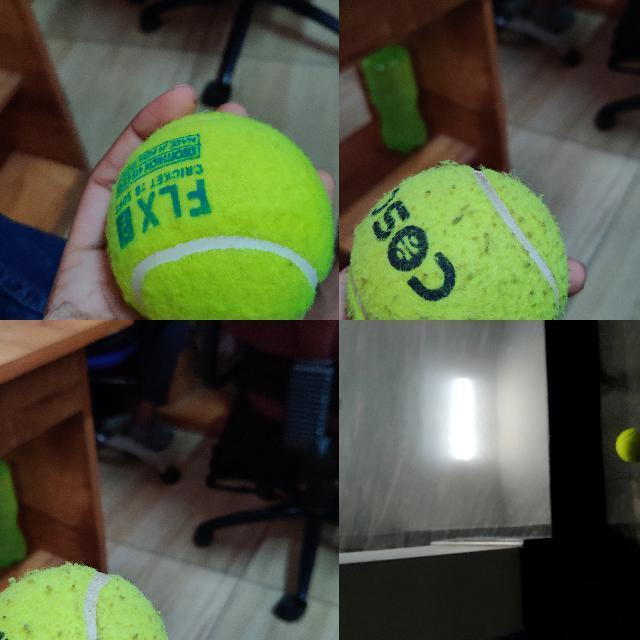tennis-ball: (106, 112, 332, 319), (344, 160, 570, 319), (0, 561, 172, 639), (614, 427, 639, 463)
